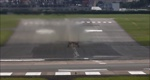maybay_muctieu: (60, 34, 82, 48)
